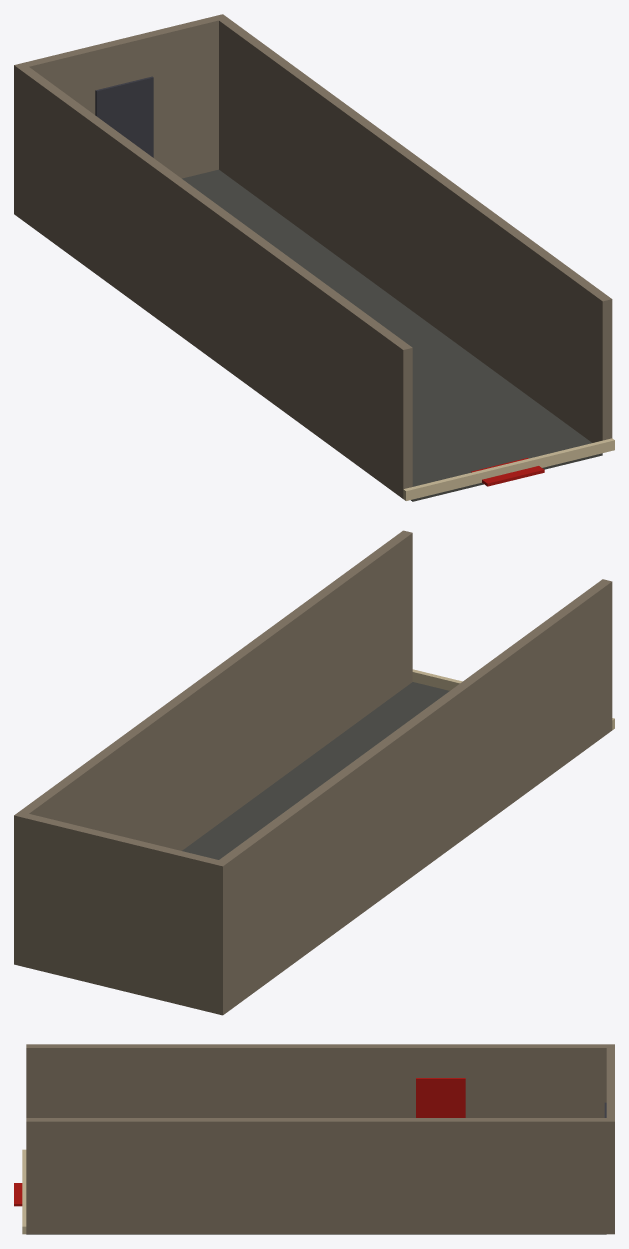
Rendered from corridor_a.obj.
The picture shows the model from 3 angles, top to bottom: view 1: azimuth 30°, elevation 25°; view 2: azimuth 150°, elevation 25°; view 3: azimuth 270°, elevation 25°; orthographic projection. The views are drawn at different scales.
Size of the model in its own units: 4.4 by 3.1 by 14.5.
